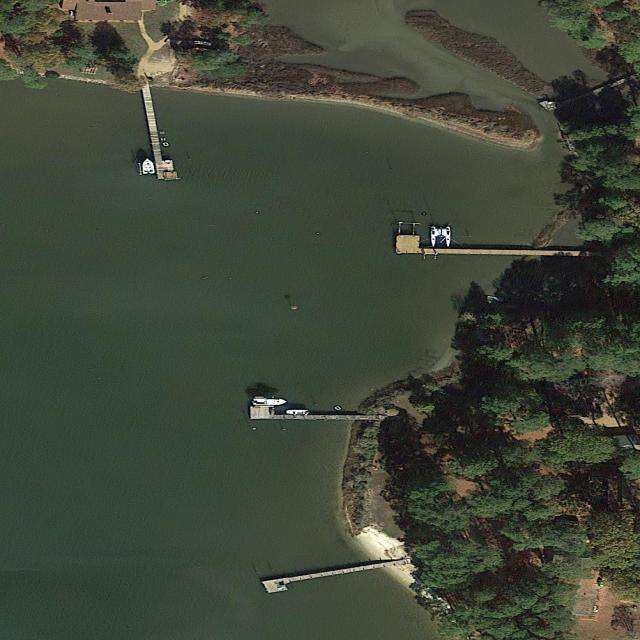ship: (431, 226, 453, 247), (254, 397, 290, 406), (142, 157, 155, 176), (284, 409, 309, 414)
